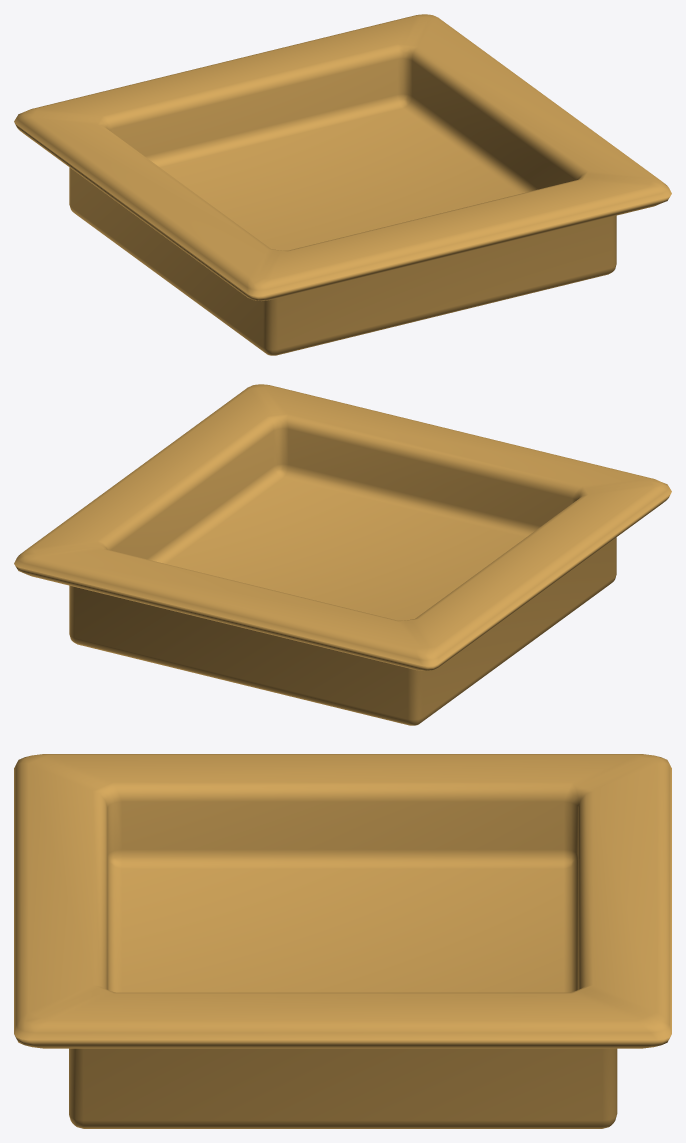
The model's file is caixa.fbx.
3 renders of one model, top to bottom at view 1: azimuth 30°, elevation 25°; view 2: azimuth 150°, elevation 25°; view 3: azimuth 270°, elevation 25°, orthographic. The views are drawn at different scales.
Parts seen in each view (by area): view 1: Cube.012; view 2: Cube.012; view 3: Cube.012.
Part boxes in pixels (x1,y1,x2,y2): Cube.012: (14,14,671,355); Cube.012: (14,384,671,725); Cube.012: (14,754,671,1128).
Size of the model in its own units: 1.47 by 0.3193 by 1.47.
